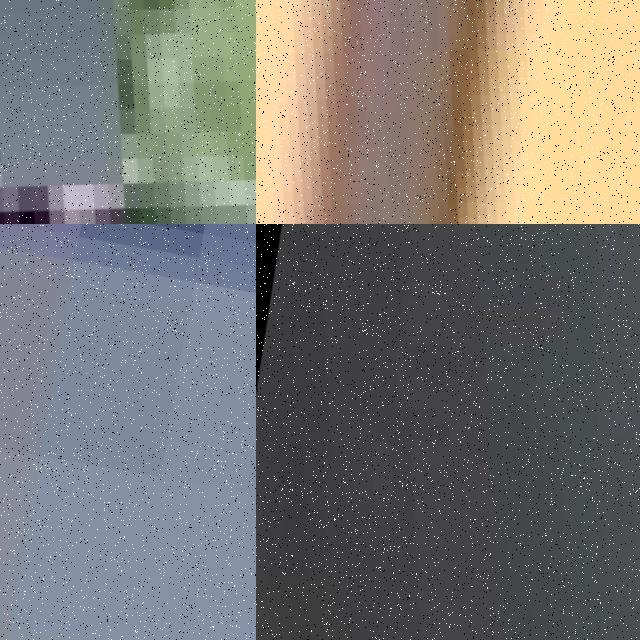drone: (256, 224, 640, 640), (256, 0, 640, 224), (0, 0, 256, 224)
